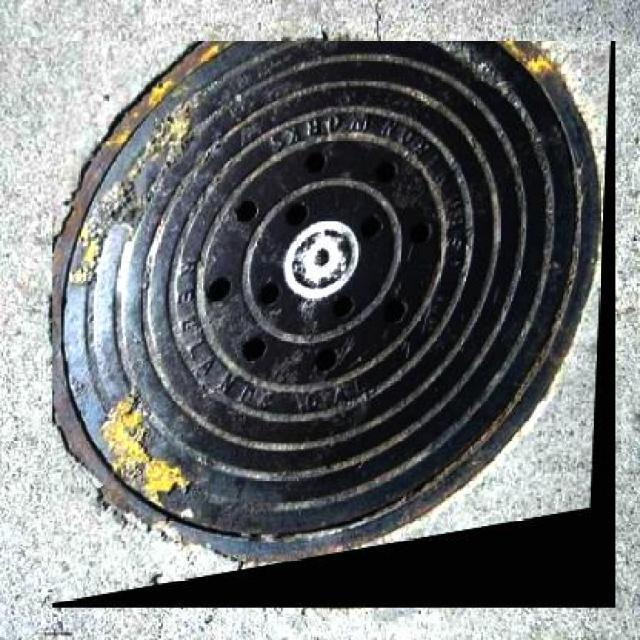Manhole: (52, 40, 616, 608)
